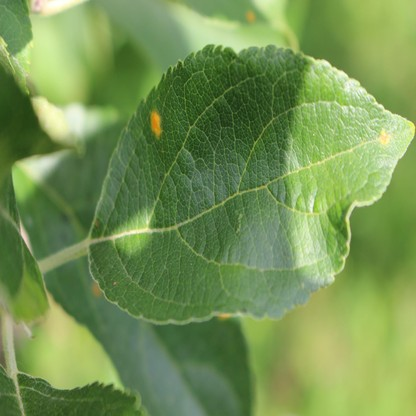rust: (150, 110, 162, 137), (91, 280, 102, 298), (378, 128, 390, 144), (246, 9, 254, 20), (218, 312, 230, 319), (95, 221, 98, 226), (114, 281, 117, 285)
